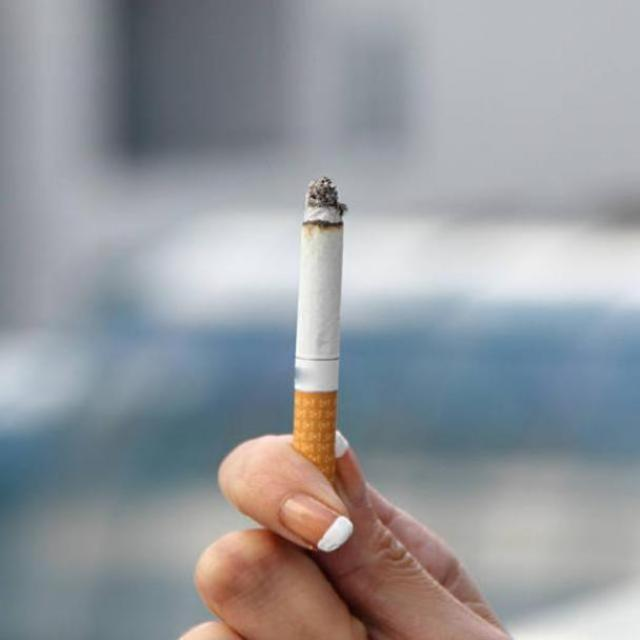rokok: (292, 174, 350, 484)
